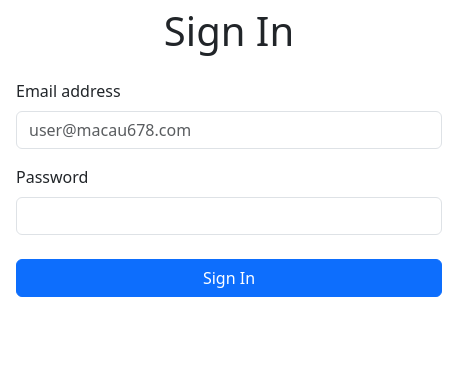
Test: Frontend component tests: Authentication and Authorization › TEST-COMP-01: Login form rendering and submission handling › displays validation error when submitting with empty fields
This screenshot has width=459, height=388.
Click the button "Sign In".
click(229, 278)  # box [16, 259, 442, 297]
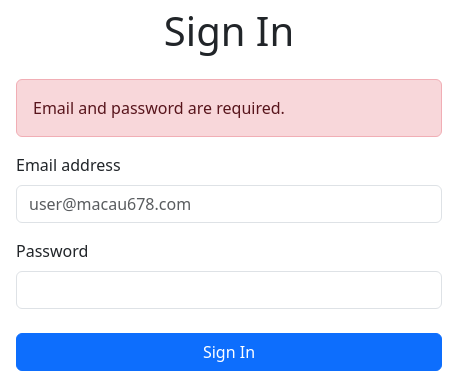
Expected: the text "Email and password are required." is shown, [16, 79, 442, 137]
